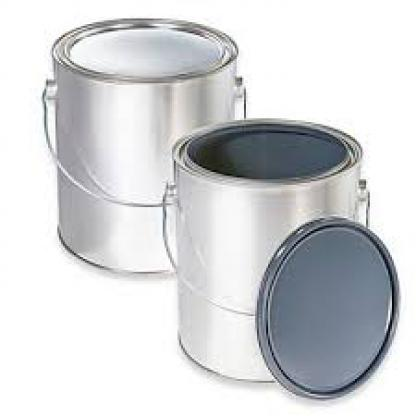METAL: (163, 115, 368, 381), (41, 16, 246, 272), (254, 215, 398, 401)
